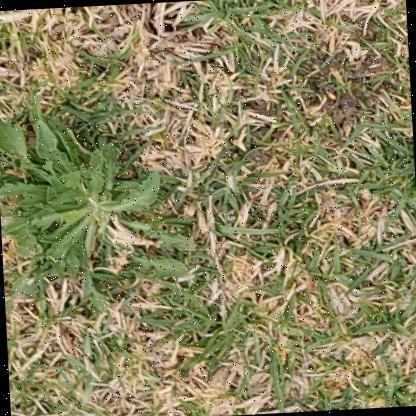Weeds: (0, 99, 199, 316)
